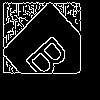B: (23, 26, 79, 83)
